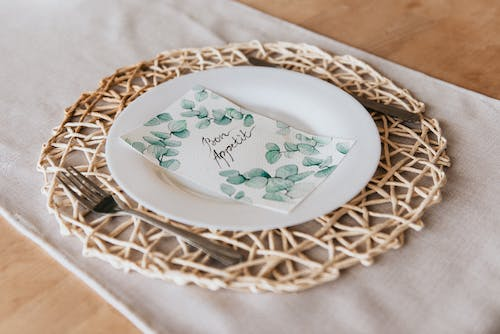knife: (248, 55, 421, 123)
